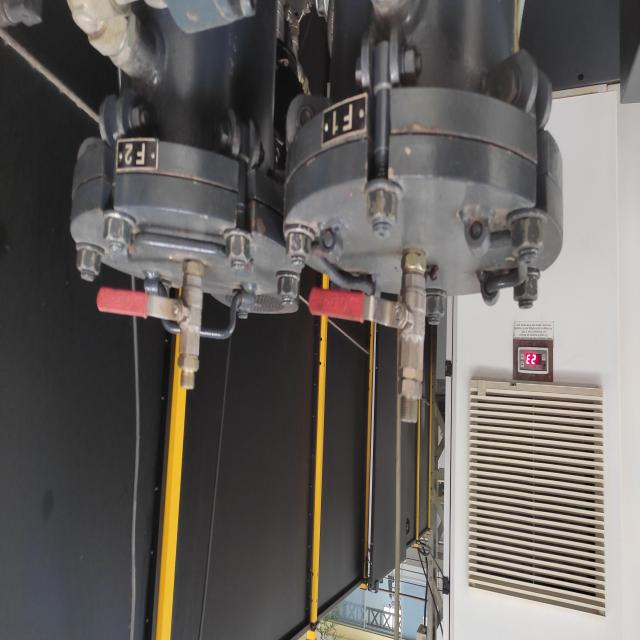closed_valve: (306, 285, 430, 386), (95, 277, 204, 360)
